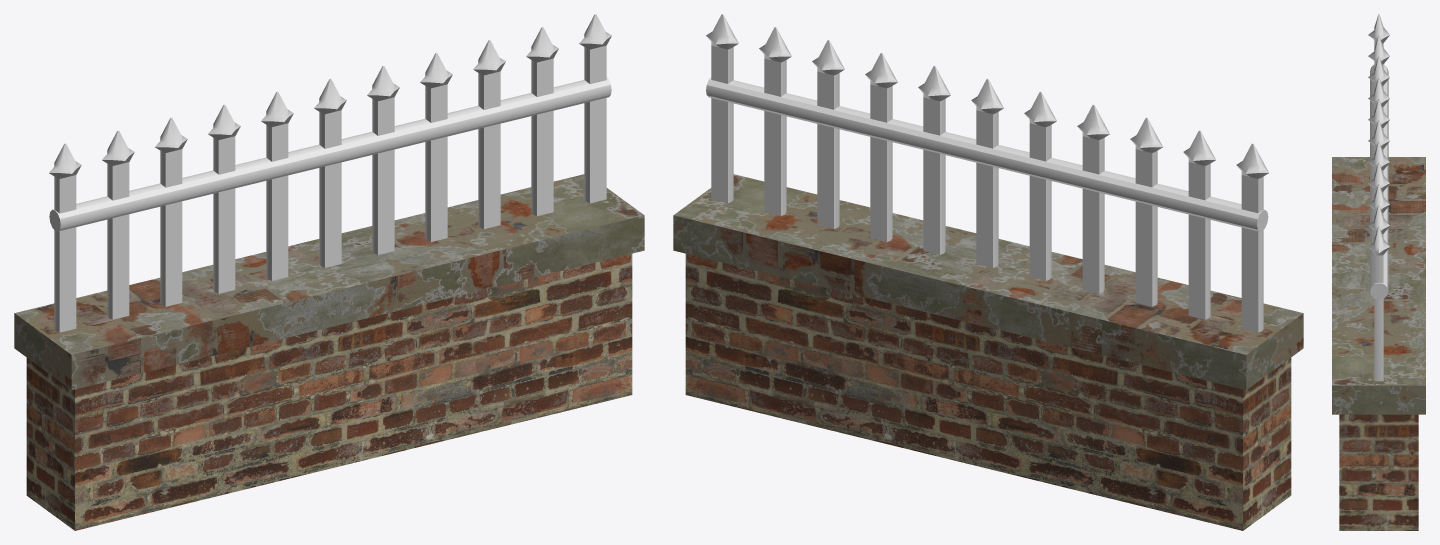
File: Victorian Spiked Wall.fbx
3 renders of one model, left to right at view 1: azimuth 30°, elevation 25°; view 2: azimuth 150°, elevation 25°; view 3: azimuth 270°, elevation 25°, orthographic. The views are drawn at different scales.
Parts seen in each view (by area): view 1: Cube, Cylinder.001; view 2: Cube, Cylinder.001; view 3: Cube, Cylinder.001.
Boxes of the visible parts, left/top/right/bottom form: Cube: left=14, top=174, right=644, bottom=530; Cylinder.001: left=49, top=14, right=611, bottom=332; Cube: left=673, top=174, right=1303, bottom=530; Cylinder.001: left=706, top=14, right=1268, bottom=332; Cube: left=1332, top=157, right=1425, bottom=530; Cylinder.001: left=1368, top=14, right=1389, bottom=381.
Size of the model in its own units: 411 by 251 by 71.14.
